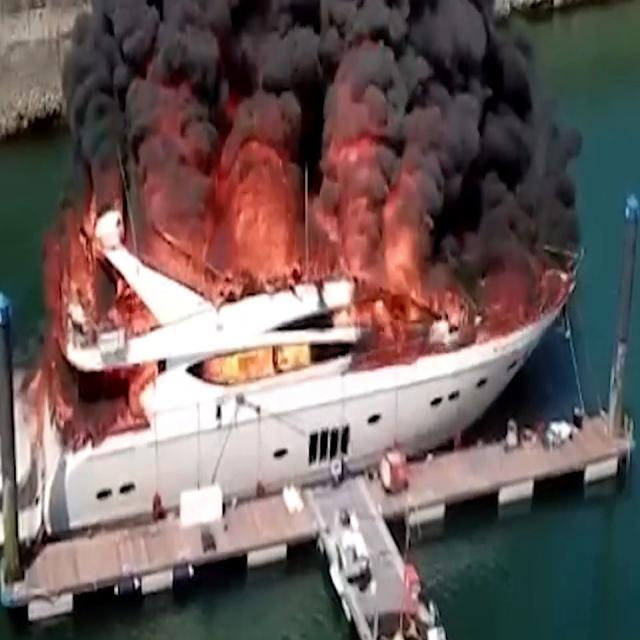fire: (328, 194, 426, 352), (230, 175, 309, 332), (52, 228, 104, 328)
smoke: (96, 0, 500, 92)
